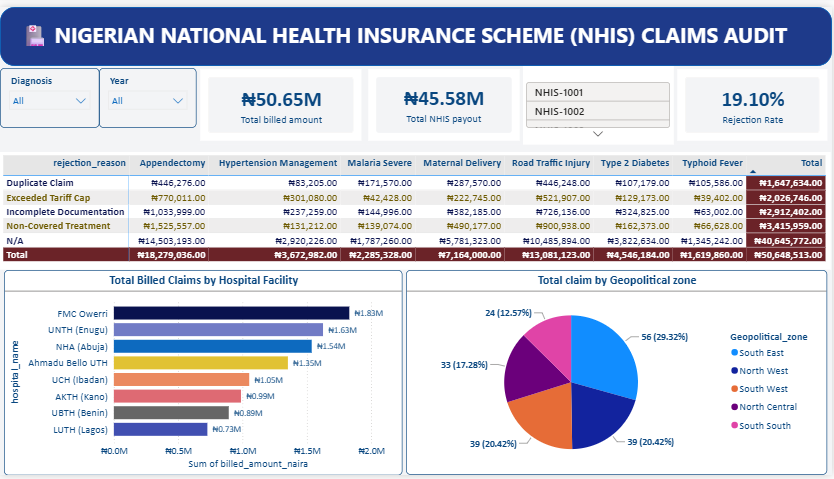

What the dashboard file says about the page in this screenshot:
{"tool":"powerbi","page":{"name":"Page 1","canvas":[1280,720],"ordinal":0},"visuals":[{"type":"shape","box":[0,0,1280,90.7],"z":0},{"type":"textbox","box":[26.9,15.1,1226.2,58.8],"z":1000},{"type":"slicer","fields":{"Values":["nigerian_nhis_claims.diagnosis"]},"box":[0,93.6,152.6,92.2],"z":2000},{"type":"cardVisual","fields":{"Data":["Sum(nigerian_nhis_claims.billed_amount_naira)"]},"box":[302.4,90.7,258.7,120.9],"z":3000},{"type":"cardVisual","fields":{"Data":["Sum(nigerian_nhis_claims.nhis_payout_naira)"]},"box":[561,90.7,243.6,120.9],"z":4000},{"type":"cardVisual","fields":{"Rows":["nigerian_nhis_claims.claim_id"]},"box":[804.6,90.7,231.8,120.9],"z":5000},{"type":"cardVisual","fields":{"Data":["nigerian_nhis_claims.Rejection Rate"]},"box":[1036.4,90.7,241.9,120.9],"z":6000},{"type":"clusteredBarChart","title":"Total Billed Claims by Hospital Facility","fields":{"Category":["nigerian_nhis_claims.hospital_name"],"Y":["Sum(nigerian_nhis_claims.billed_amount_naira)"]},"box":[6.7,404.8,613.1,315.8],"z":7000},{"type":"pieChart","title":"Total claim by Geopolitical zone","fields":{"Category":["nigerian_nhis_claims.geopolitical_zone"],"Y":["CountNonNull(nigerian_nhis_claims.claim_id)"]},"box":[625,404.6,648,315.4],"z":8000},{"type":"slicer","fields":{"Values":["nigerian_nhis_claims.submission_date.Variation.Date Hierarchy.Year"]},"box":[152.6,93.6,149.8,92.2],"z":9000},{"type":"pivotTable","fields":{"Values":["Sum(nigerian_nhis_claims.billed_amount_naira)"],"Rows":["nigerian_nhis_claims.rejection_reason"],"Columns":["nigerian_nhis_claims.diagnosis"]},"box":[0,223.4,1278.3,181.4],"z":10000}]}

Visuals, with their boxes in screenshot pixels (x1, y1, x2, y2), scaled from the page's 1280x720 canvas onto the 834x479 screenshot:
shape: crop(0, 0, 833, 60)
textbox: crop(18, 10, 816, 49)
slicer - nigerian_nhis_claims.diagnosis: crop(0, 62, 99, 124)
cardVisual - Sum(nigerian_nhis_claims.billed_amount_naira): crop(197, 60, 366, 141)
cardVisual - Sum(nigerian_nhis_claims.nhis_payout_naira): crop(366, 60, 524, 141)
cardVisual - nigerian_nhis_claims.claim_id: crop(524, 60, 675, 141)
cardVisual - nigerian_nhis_claims.Rejection Rate: crop(675, 60, 833, 141)
"Total Billed Claims by Hospital Facility" clusteredBarChart: crop(4, 269, 404, 478)
"Total claim by Geopolitical zone" pieChart: crop(407, 269, 829, 478)
slicer - nigerian_nhis_claims.submission_date.Variation.Date Hierarchy.Year: crop(99, 62, 197, 124)
pivotTable - Sum(nigerian_nhis_claims.billed_amount_naira) x nigerian_nhis_claims.rejection_reason: crop(0, 149, 833, 269)
